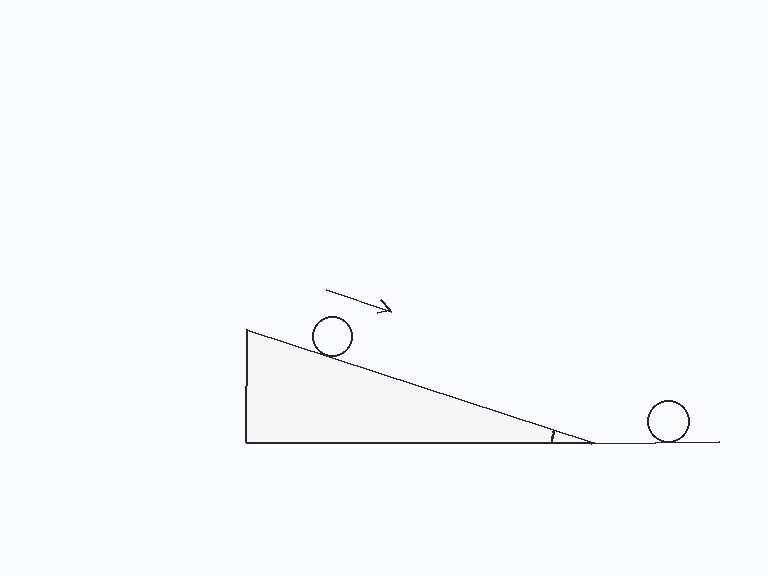ball: (645, 398, 691, 444), (310, 314, 354, 358)
ramp: (244, 328, 594, 444)
